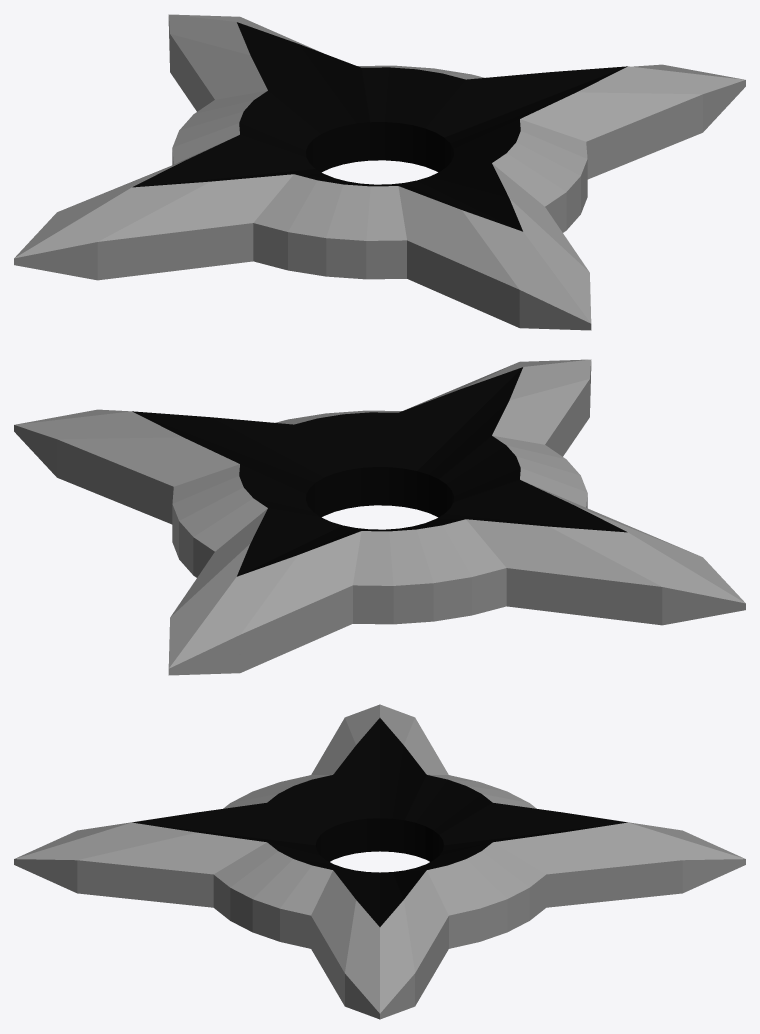
Rendered from shiruken.fbx.
3 views of the same model, one above another, from view 1: azimuth 30°, elevation 25°; view 2: azimuth 150°, elevation 25°; view 3: azimuth 270°, elevation 25° (orthographic). The views are drawn at different scales.
Visible parts, largest first — view 1: Cylinder; view 2: Cylinder; view 3: Cylinder.
Part boxes in pixels (left/top/right/bottom): Cylinder: left=14, top=14, right=745, bottom=330; Cylinder: left=14, top=359, right=745, bottom=675; Cylinder: left=14, top=704, right=745, bottom=1019.
Bounding box in the file's own units: 111 × 11.34 × 111.
1 material, 1 textured.
